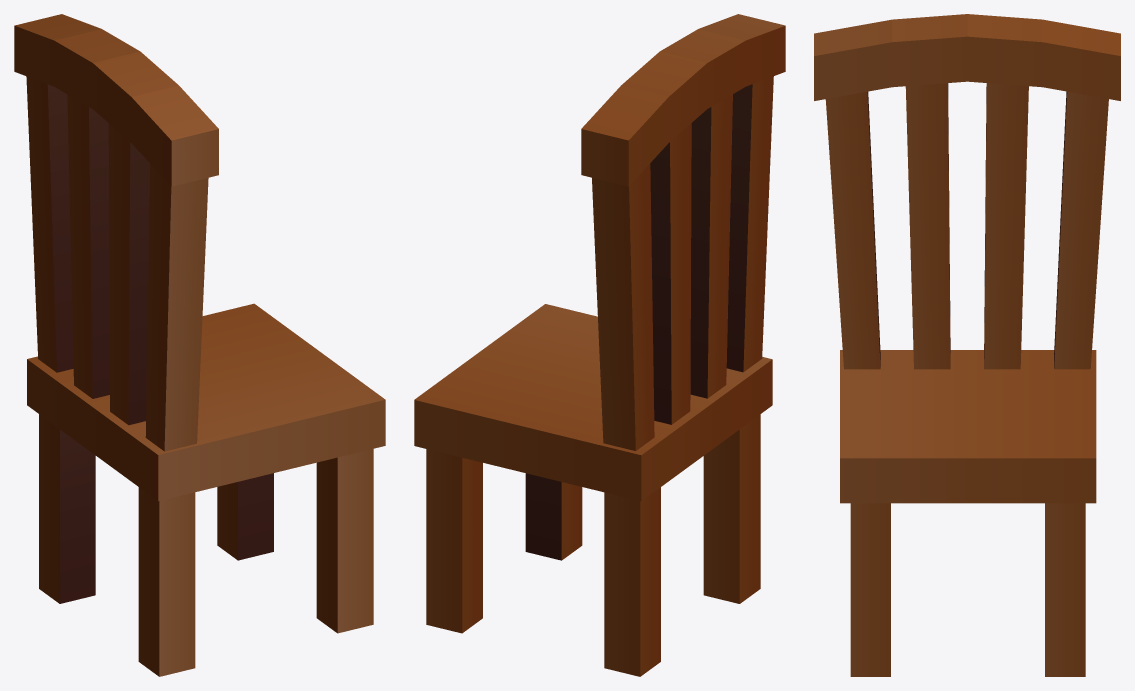
Rendered from ST_Chair.fbx.
3 views of the same model, side by side, from view 1: azimuth 30°, elevation 25°; view 2: azimuth 150°, elevation 25°; view 3: azimuth 270°, elevation 25° (orthographic). The views are drawn at different scales.
Visible parts, largest first — view 1: ST_Chair; view 2: ST_Chair; view 3: ST_Chair.
Boxes of the visible parts, <box> form: ST_Chair: <box>14,14,385,676</box>; ST_Chair: <box>414,14,785,676</box>; ST_Chair: <box>814,14,1120,676</box>.
Bounding box in the file's own units: 40.86 × 98.16 × 48.91.
